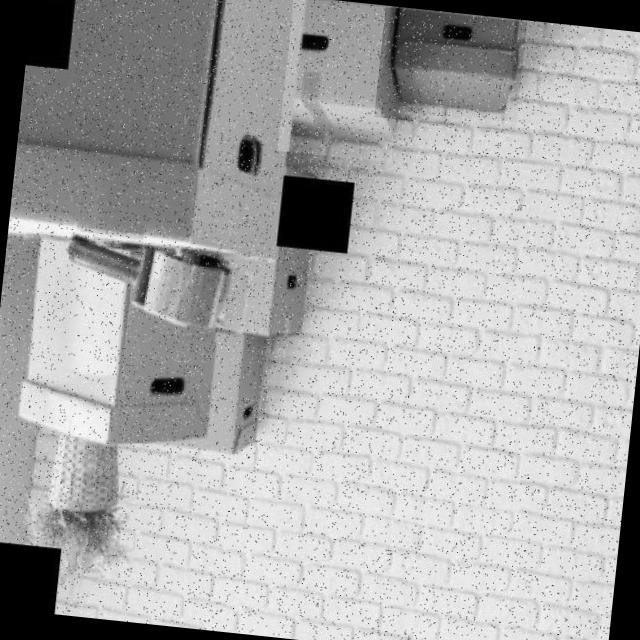box: (8, 0, 306, 261), (1, 212, 228, 450), (185, 115, 330, 351), (276, 0, 407, 162), (374, 7, 526, 131), (183, 304, 276, 491)
